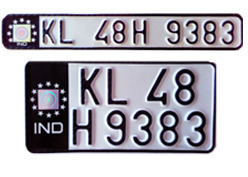number_plate: (25, 63, 213, 147)
